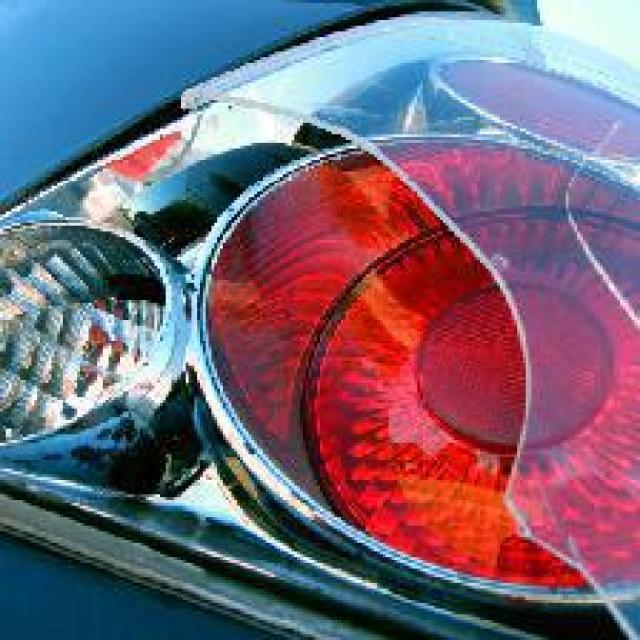damaged: (5, 100, 638, 637)
